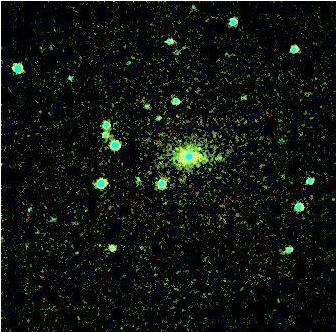star: (172, 31, 202, 61)
